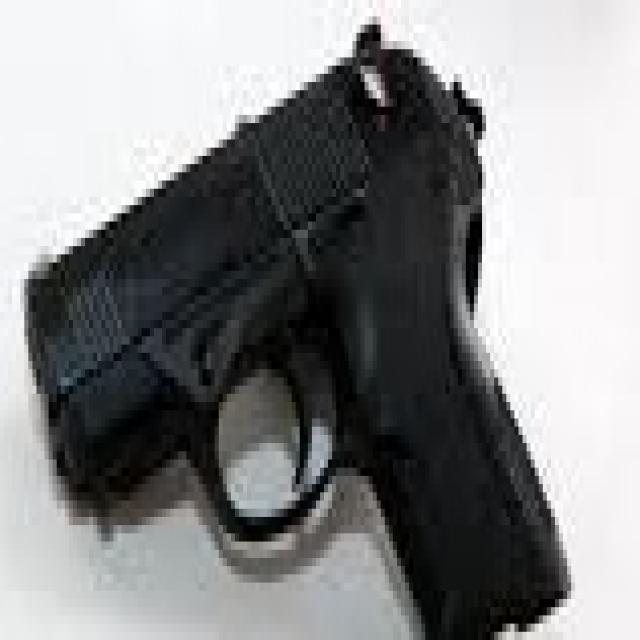pistol: (17, 8, 572, 640)
